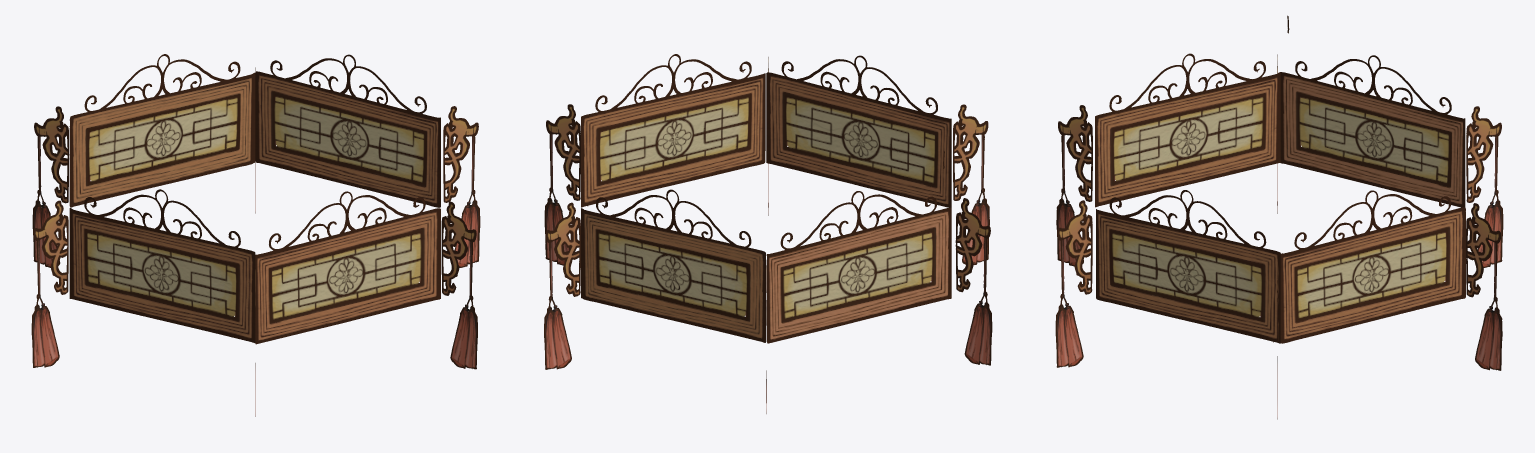
3 renders of one model, left to right at view 1: azimuth 30°, elevation 25°; view 2: azimuth 150°, elevation 25°; view 3: azimuth 270°, elevation 25°, orthographic.
Visible parts, largest first — view 1: NGon006, Rectangle004, Rectangle001, Rectangle002, Rectangle005; view 2: NGon006, Rectangle006, Rectangle004, Rectangle002, Rectangle003; view 3: NGon006, Rectangle001, Rectangle006, Rectangle005, Rectangle003.
Boxes of the visible parts, x1,y1,x2,y2 form: NGon006: (69,54,440,344); Rectangle004: (31,200,68,367); Rectangle001: (441,201,477,369); Rectangle002: (443,106,480,267); Rectangle005: (32,106,69,267); NGon006: (581,54,951,343); Rectangle006: (544,202,580,369); Rectangle004: (955,198,992,365); Rectangle002: (544,104,580,265); Rectangle003: (953,104,989,264); NGon006: (1095,15,1465,343); Rectangle001: (1055,200,1092,367); Rectangle006: (1466,203,1502,370); Rectangle005: (1466,106,1503,267); Rectangle003: (1056,105,1092,266).
Size of the model in its own units: 412 by 178 by 356.
